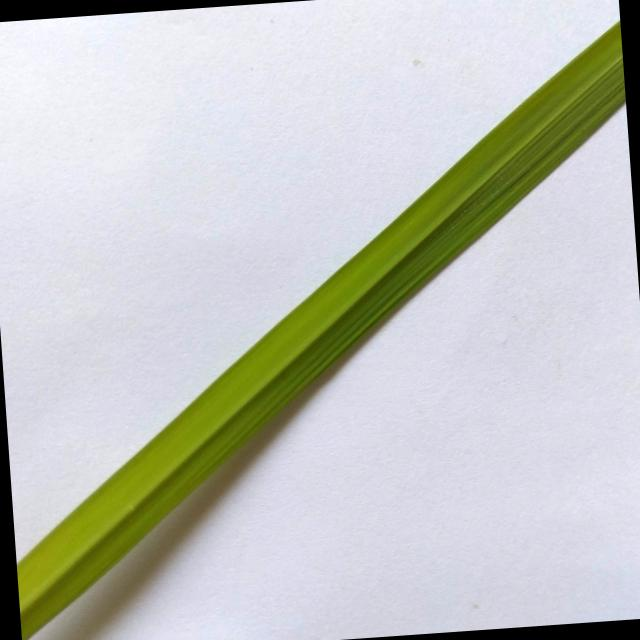Rice_Healthy: (16, 23, 625, 640)
